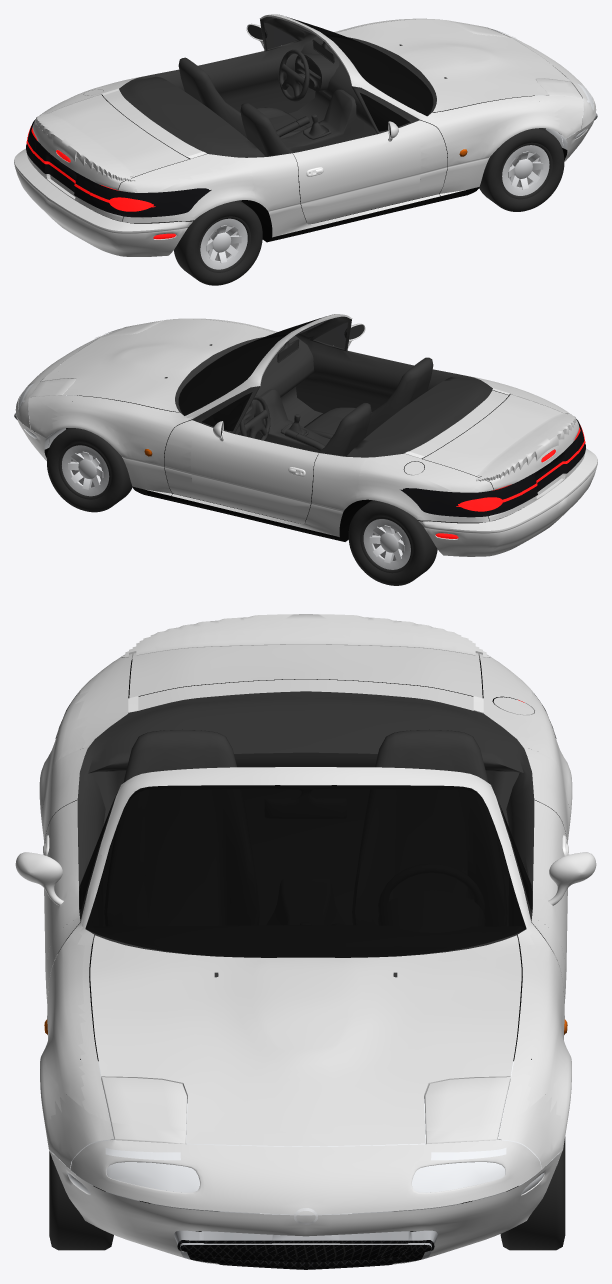
File: mazdo_miota.glb
3 views of the same model, one above another, from view 1: azimuth 30°, elevation 25°; view 2: azimuth 150°, elevation 25°; view 3: azimuth 270°, elevation 25° (orthographic). The views are drawn at different scales.
Parts seen in each view (by area): view 1: liner_trim, part_door_fr, part_trunk, part_hood, part_fender_fr, part_rear_bumper, wheel_rr, wheel_fr, part_glass, part_quarter_rr, part_front_bumper, part_roof (+2 smaller); view 2: liner_trim, part_door_fl, part_trunk, part_hood, part_fender_fl, part_rear_bumper, wheel_rl, wheel_fl, part_glass, part_quarter_rl, part_front_bumper, part_roof (+2 smaller); view 3: liner_trim, part_hood, part_glass, part_front_bumper, part_trunk, part_roof, part_fender_fl, part_fender_fr, part_door_fl, part_door_fr, core, headlight_r (+5 smaller).
Boxes of the visible parts, box(x1,y1,x2,y2) form: liner_trim: box(26, 17, 597, 242); part_door_fr: box(244, 112, 421, 237); part_trunk: box(32, 78, 245, 219); part_hood: box(335, 18, 573, 118); part_fender_fr: box(411, 95, 565, 201); part_rear_bumper: box(14, 148, 194, 256); wheel_rr: box(174, 200, 262, 285); wheel_fr: box(479, 128, 564, 211); part_glass: box(264, 16, 433, 131); part_quarter_rr: box(76, 151, 255, 220); part_front_bumper: box(477, 25, 596, 161); part_roof: box(260, 14, 392, 101); liner_trim: box(14, 316, 585, 541); part_door_fl: box(190, 411, 367, 536); part_trunk: box(367, 378, 579, 519); part_hood: box(38, 318, 276, 418); part_fender_fl: box(46, 399, 200, 501); part_rear_bumper: box(417, 448, 597, 556); wheel_rl: box(348, 500, 437, 585); wheel_fl: box(47, 428, 132, 512); part_glass: box(178, 316, 347, 431); part_quarter_rl: box(356, 460, 489, 520); part_front_bumper: box(15, 325, 135, 460); part_roof: box(219, 314, 351, 401); liner_trim: box(43, 659, 568, 1259); part_hood: box(77, 852, 534, 1134); part_glass: box(79, 785, 532, 957); part_front_bumper: box(44, 1092, 567, 1264); part_trunk: box(74, 614, 533, 748); part_roof: box(99, 767, 512, 858); part_fender_fl: box(475, 900, 571, 1134); part_fender_fr: box(40, 900, 136, 1134); part_door_fl: box(522, 746, 596, 996); part_door_fr: box(15, 746, 89, 996); core: box(44, 1019, 567, 1269); headlight_r: box(49, 1060, 305, 1215).
Size of the model in its own units: 3.97 by 1.21 by 1.92.
16 materials, 2 textured.
